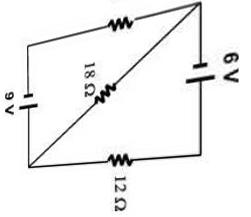Battery: (16, 78, 48, 116)
